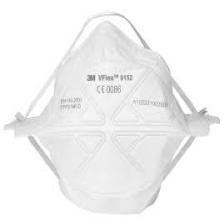mask: (4, 10, 220, 213)
